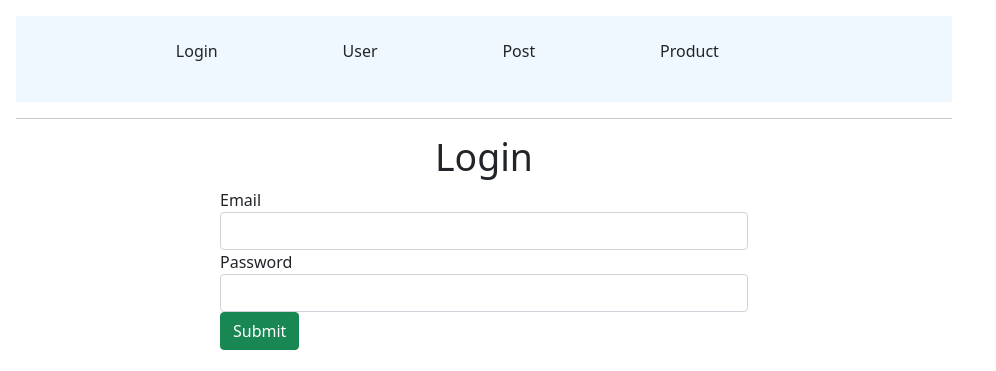
it: login user case › should valid and login
Type "ashish.rathore@calsoftinc.com" into the field at (484, 231), box [220,212,748,250]
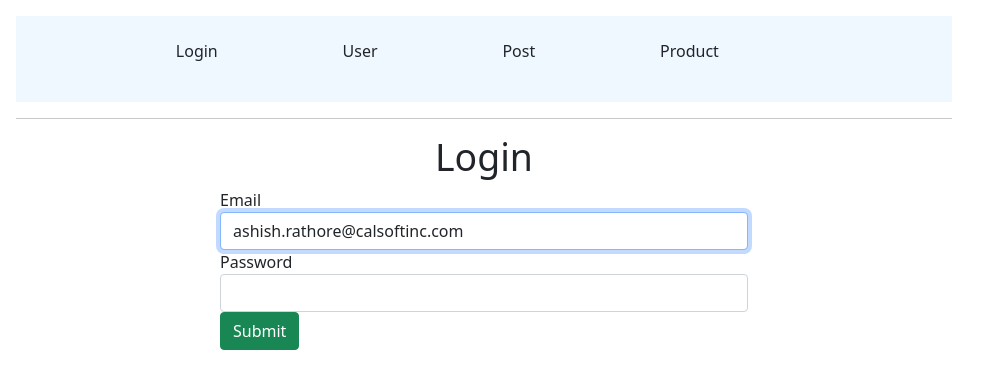
Type "123456" into the password field at (484, 293), box [220,274,748,312]
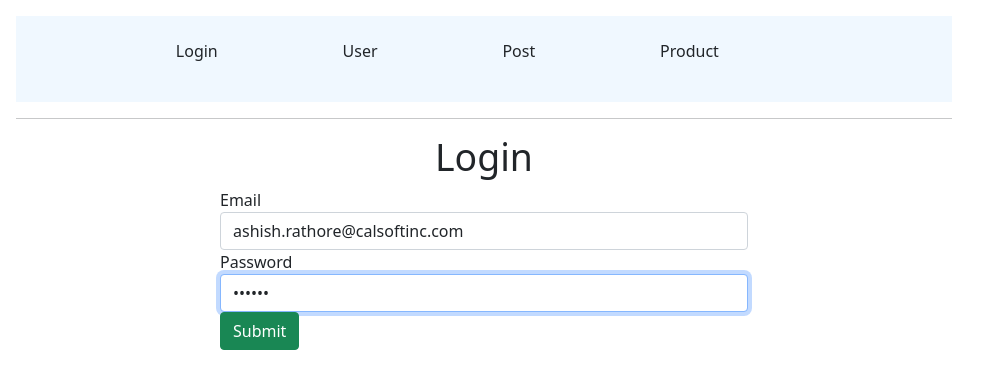
Click the button "Submit" at (260, 331), box [220,312,299,350]
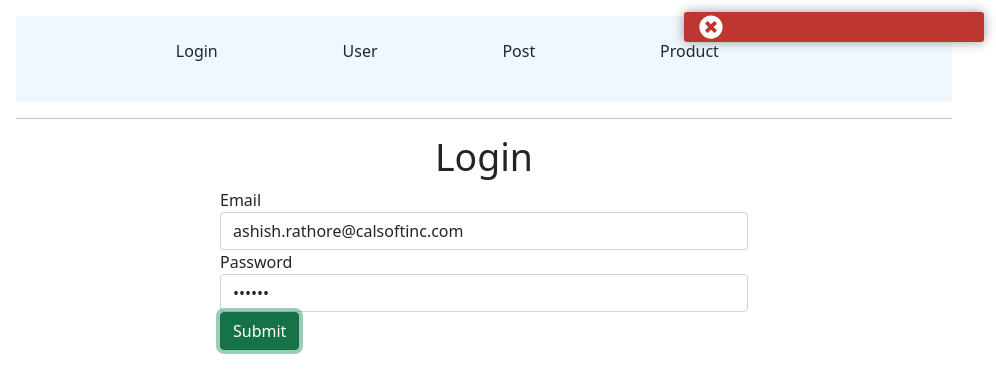
Result: the element with id "toast-container" is shown at [684,12,984,48]
